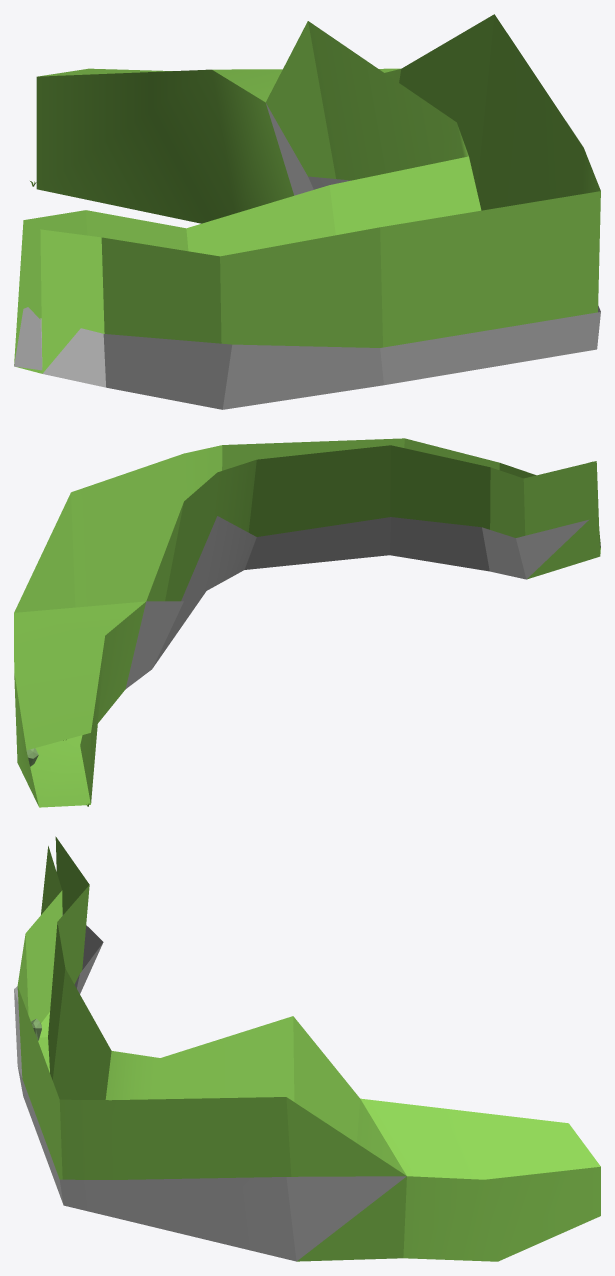
3 views of the same model, one above another, from view 1: azimuth 30°, elevation 25°; view 2: azimuth 150°, elevation 25°; view 3: azimuth 270°, elevation 25° (orthographic). The views are drawn at different scales.
Visible parts, largest first — view 1: simple, level14; view 2: simple, level14; view 3: simple, level14.
Part boxes in pixels (bbox=[...]): simple: bbox=[14, 14, 600, 373]; level14: bbox=[14, 103, 600, 409]; simple: bbox=[14, 438, 600, 807]; level14: bbox=[26, 516, 600, 806]; simple: bbox=[17, 836, 600, 1261]; level14: bbox=[14, 912, 406, 1261].
Size of the model in its own units: 89.09 by 47.62 by 105.
